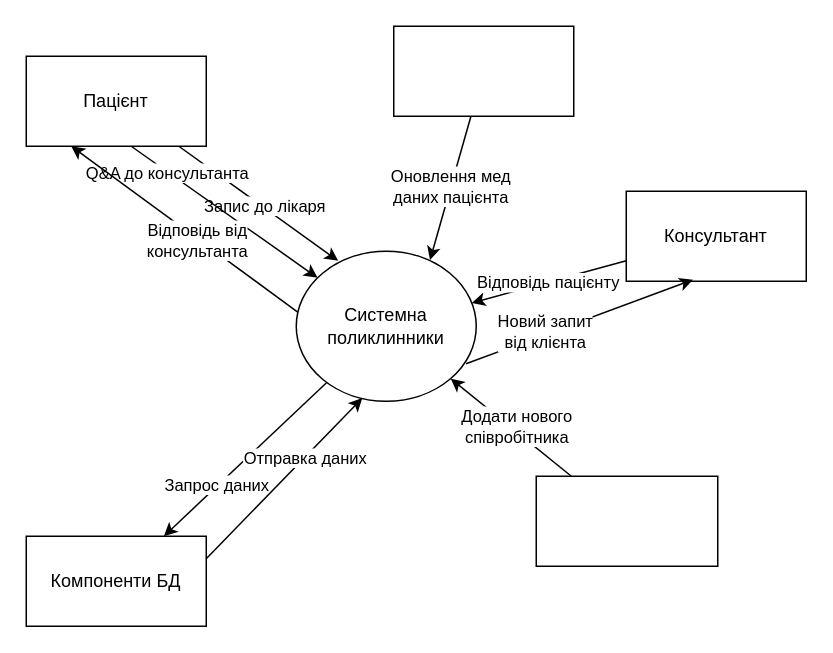
This 833x653 diagram has some shape labels left out. Here are the shapes that lost their labels. From the top down, the centre of each, then its label:
point 483,70: Лікар
point 626,520: Адміністратор
